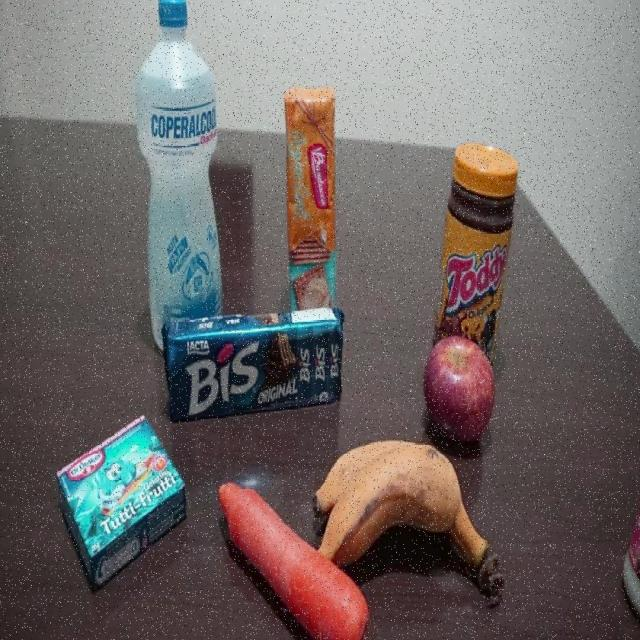AlcoholBottle: (140, 0, 223, 311)
Apple: (425, 334, 498, 434)
Banana: (321, 434, 510, 614)
Carrot: (217, 471, 313, 640)
ChocolatePowder: (444, 148, 517, 318)
Cracker: (283, 88, 337, 308)
Gelatine: (53, 412, 185, 584)
